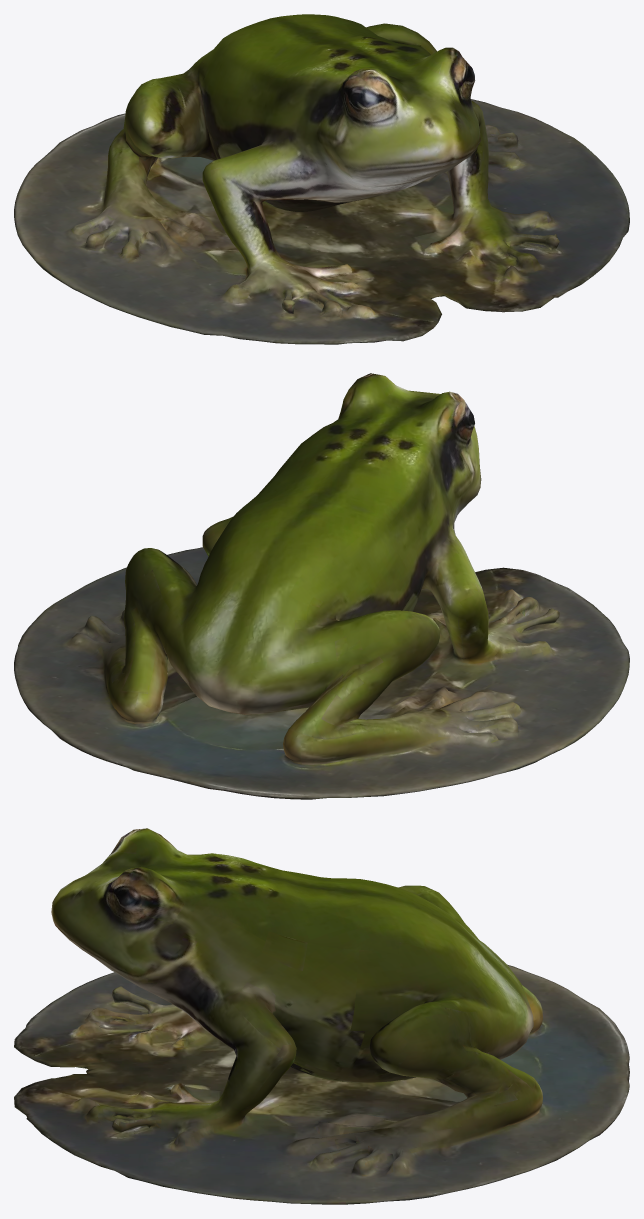
File: beast-frogA.glb
3 views of the same model, one above another, from view 1: azimuth 30°, elevation 25°; view 2: azimuth 150°, elevation 25°; view 3: azimuth 270°, elevation 25° (orthographic).
Bounding box in the file's own units: 2 × 0.8026 × 1.97.
1 material, 1 textured.
